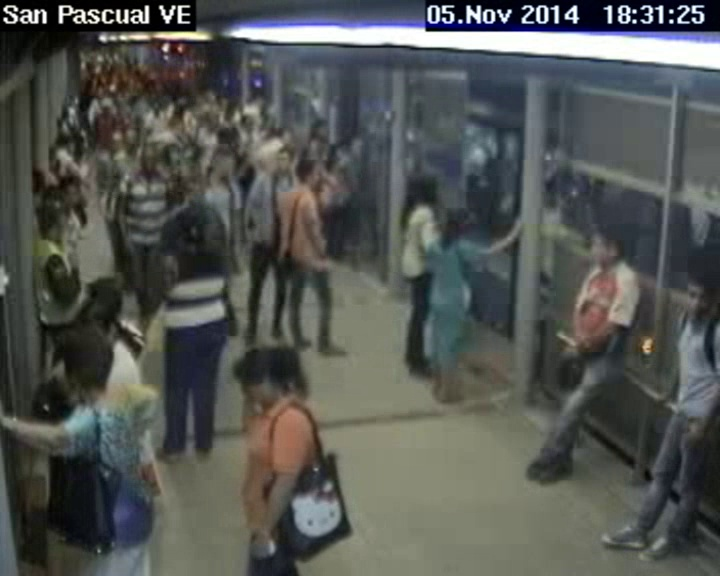person: (229, 345, 311, 410), (58, 325, 116, 402), (85, 272, 131, 337), (675, 264, 713, 324), (589, 222, 631, 265), (405, 165, 443, 212), (167, 208, 206, 251), (32, 203, 67, 243), (55, 173, 87, 215), (437, 207, 469, 247), (205, 148, 231, 188), (297, 156, 324, 193), (276, 145, 296, 179), (306, 116, 330, 143), (140, 144, 156, 174), (326, 136, 345, 159), (109, 126, 123, 155), (124, 127, 139, 152), (98, 96, 113, 114)
